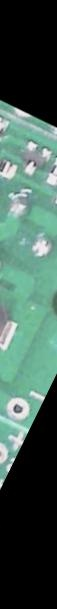chip-resistor: (40, 150, 57, 187), (50, 185, 57, 213)
transistor: (12, 136, 53, 180)
